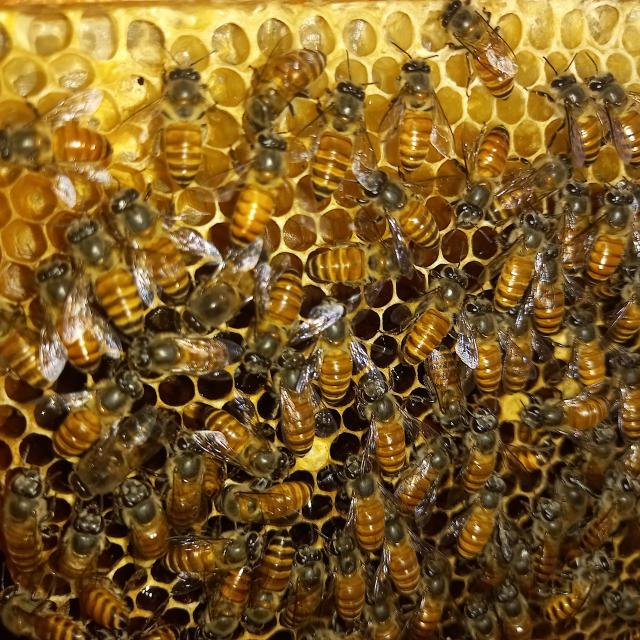honeybee: (111, 191, 227, 309), (59, 218, 161, 346), (125, 63, 223, 183), (0, 86, 116, 184), (42, 360, 151, 458), (34, 263, 118, 378), (158, 255, 269, 341), (188, 403, 286, 495), (436, 0, 523, 99), (388, 49, 452, 175), (301, 73, 367, 192), (361, 168, 449, 257), (576, 166, 640, 288), (242, 44, 324, 139), (242, 260, 317, 362), (80, 404, 176, 482), (343, 368, 412, 476), (228, 137, 294, 247), (448, 128, 516, 231), (404, 259, 471, 361), (266, 353, 327, 460), (588, 67, 640, 189), (304, 229, 415, 286), (542, 71, 608, 166), (489, 218, 546, 325), (485, 153, 574, 220), (444, 482, 508, 574), (0, 470, 51, 584), (294, 304, 352, 402), (0, 308, 64, 394), (580, 472, 640, 560), (456, 298, 509, 397), (528, 233, 579, 335), (128, 332, 230, 382), (456, 401, 514, 485), (202, 548, 252, 640), (545, 188, 594, 280), (338, 468, 388, 558), (542, 556, 598, 636), (116, 477, 171, 558), (252, 533, 294, 637), (388, 450, 453, 517), (566, 309, 618, 392), (154, 531, 243, 579), (53, 502, 107, 581), (418, 340, 466, 428), (168, 432, 210, 525), (213, 483, 311, 521), (1, 597, 86, 640), (553, 373, 618, 428), (521, 401, 614, 437), (502, 307, 535, 406), (376, 521, 419, 594), (281, 566, 323, 640), (80, 582, 130, 634), (334, 546, 363, 631), (498, 585, 542, 640), (609, 270, 640, 344), (516, 498, 557, 552), (415, 572, 447, 632), (619, 367, 640, 455), (507, 436, 553, 474), (466, 599, 508, 640), (359, 605, 405, 640), (610, 586, 640, 624), (130, 621, 182, 640)
